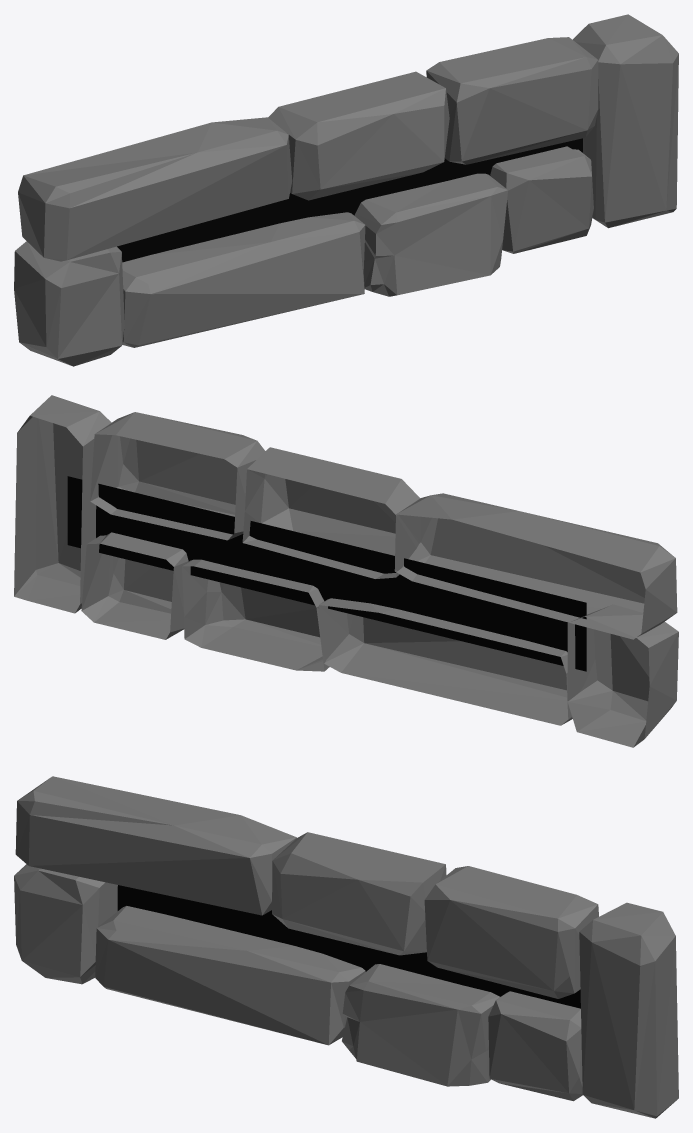
File: ProjectileStoneWallTrap.fbx
3 views of the same model, one above another, from view 1: azimuth 30°, elevation 25°; view 2: azimuth 150°, elevation 25°; view 3: azimuth 330°, elevation 25° (orthographic).
Visible parts, largest first — view 1: ProjectileStoneWallTrap; view 2: ProjectileStoneWallTrap; view 3: ProjectileStoneWallTrap.
Part boxes in pixels (<box>): ProjectileStoneWallTrap: <box>14,14,678,366</box>; ProjectileStoneWallTrap: <box>14,395,678,747</box>; ProjectileStoneWallTrap: <box>14,776,678,1118</box>.
Size of the model in its own units: 108 by 31.41 by 12.78.
